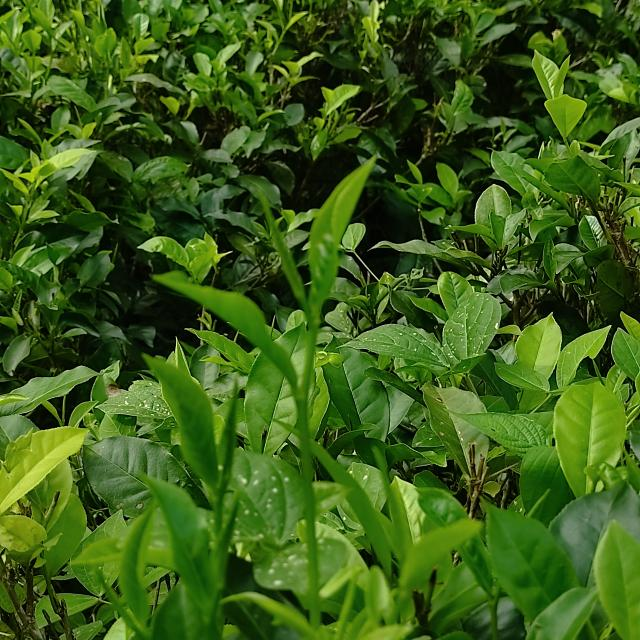unopened_leaf: (247, 175, 320, 332), (202, 369, 248, 514), (92, 559, 154, 640)
